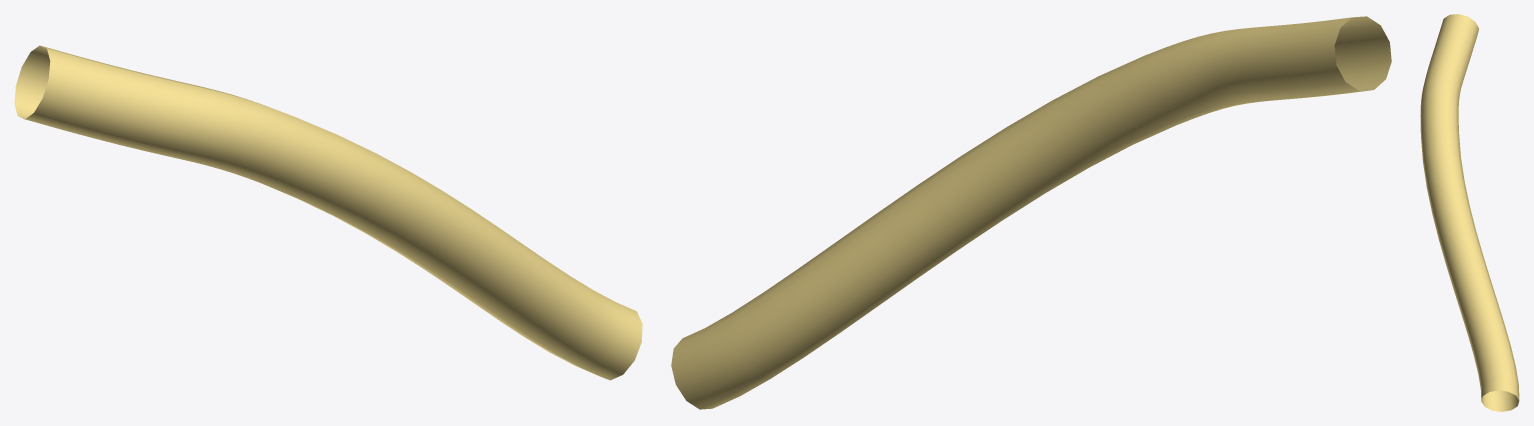
The picture shows the model from 3 angles, left to right: view 1: azimuth 30°, elevation 25°; view 2: azimuth 150°, elevation 25°; view 3: azimuth 270°, elevation 25°; orthographic projection. The views are drawn at different scales.
Parts seen in each view (by area): view 1: ZA_a82ee957572c2614; view 2: ZA_a82ee957572c2614; view 3: ZA_a82ee957572c2614.
Part boxes in pixels (x1=…): ZA_a82ee957572c2614: x1=14, y1=45, x2=642, y2=380; ZA_a82ee957572c2614: x1=671, y1=16, x2=1391, y2=409; ZA_a82ee957572c2614: x1=1420, y1=14, x2=1519, y2=411.
Bounding box in the file's own units: 0.0297 × 0.0218 × 0.00775.
